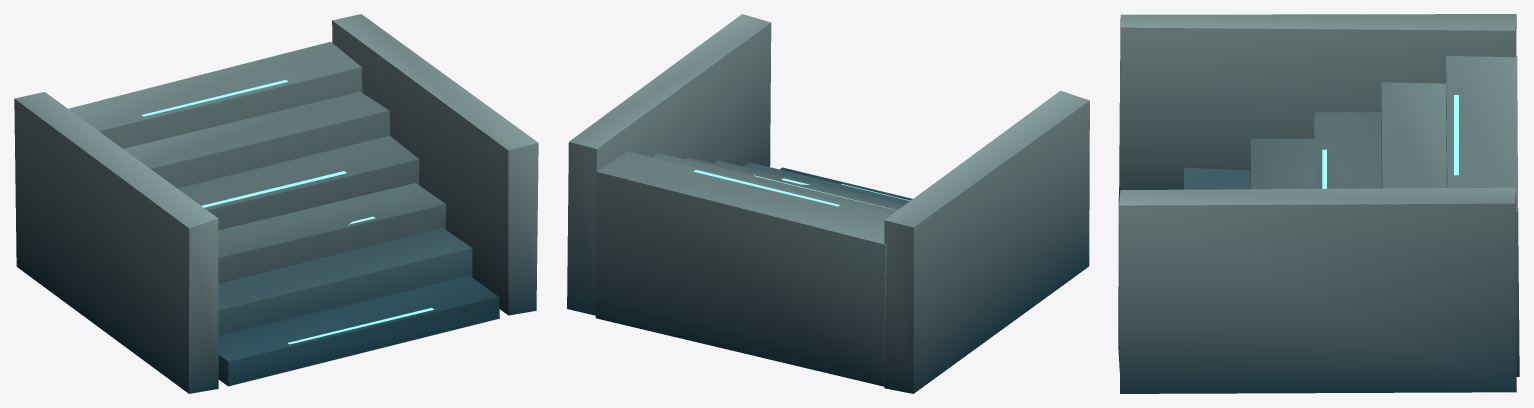
File: ruin_stairs.glb
The picture shows the model from 3 angles, left to right: view 1: azimuth 30°, elevation 25°; view 2: azimuth 150°, elevation 25°; view 3: azimuth 270°, elevation 25°; orthographic projection. The views are drawn at different scales.
Parts seen in each view (by area): view 1: ruin_stairs_stone, ruin_stairs_glow; view 2: ruin_stairs_stone, ruin_stairs_glow; view 3: ruin_stairs_stone, ruin_stairs_glow.
Boxes of the visible parts, x1=… form: ruin_stairs_stone: x1=14, y1=14, x2=538, y2=393; ruin_stairs_glow: x1=141, y1=80, x2=433, y2=344; ruin_stairs_stone: x1=567, y1=14, x2=1089, y2=393; ruin_stairs_glow: x1=693, y1=170, x2=910, y2=210; ruin_stairs_stone: x1=1118, y1=14, x2=1519, y2=393; ruin_stairs_glow: x1=1322, y1=95, x2=1458, y2=188.
Bounding box in the file's own units: 4.83 × 2.26 × 4.27.
